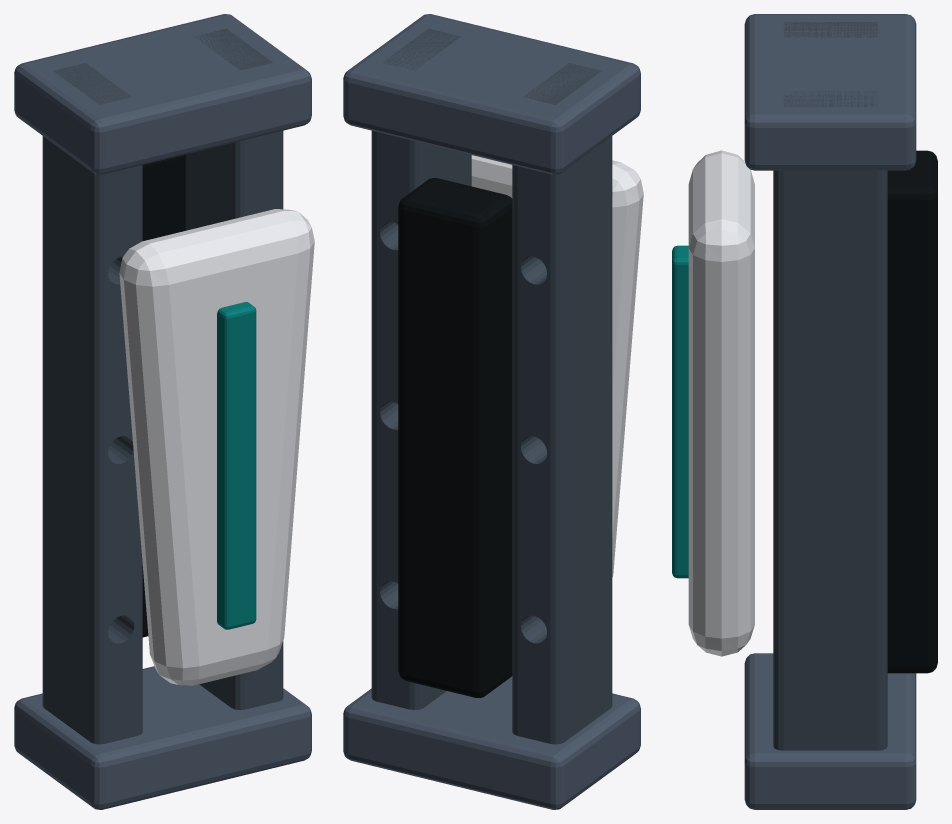
File: modular_forearm_frame.obj
The picture shows the model from 3 angles, left to right: view 1: azimuth 30°, elevation 25°; view 2: azimuth 150°, elevation 25°; view 3: azimuth 270°, elevation 25°; orthographic projection.
Visible parts, largest first — view 1: modular_forearm_frame; view 2: modular_forearm_frame; view 3: modular_forearm_frame.
Boxes of the visible parts, x1,y1,x2,y2 form: modular_forearm_frame: [14, 14, 314, 809]; modular_forearm_frame: [343, 14, 643, 809]; modular_forearm_frame: [672, 14, 937, 809].
Size of the model in its own units: 0.05 by 0.15 by 0.052.
